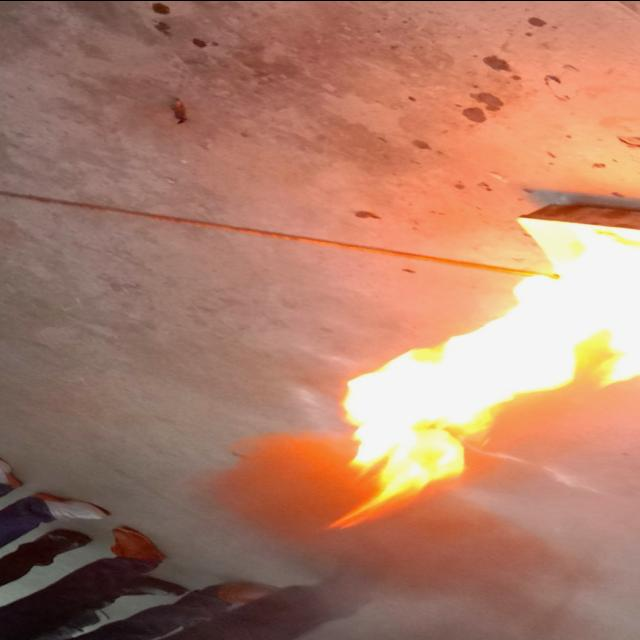firerotation: (309, 228, 640, 536)
